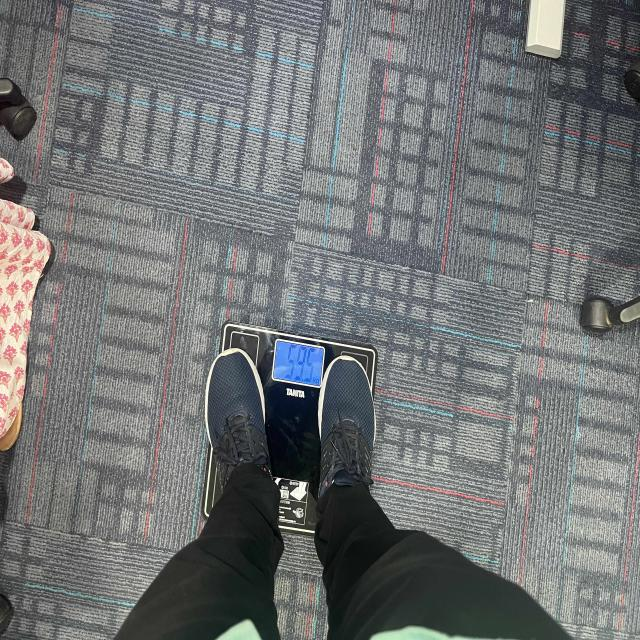ws: (264, 338, 372, 532)
